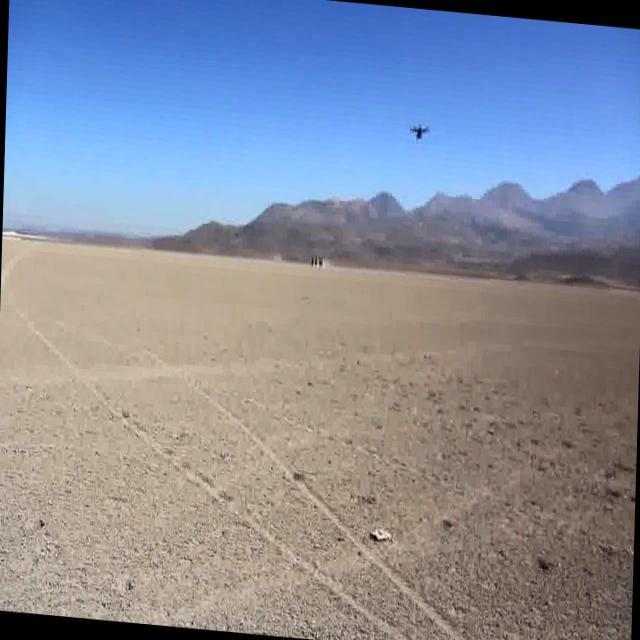drone: (406, 116, 430, 150)
